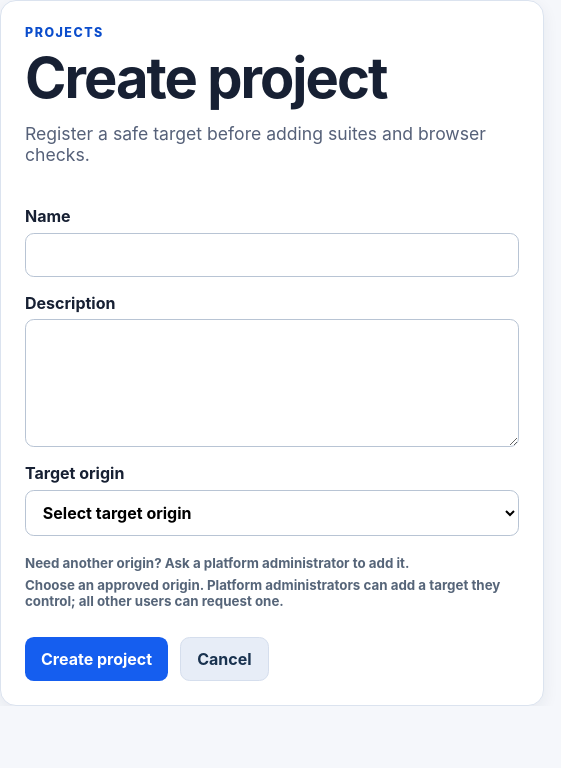
it: project recovery surfaces › gives specific empty-project instructions and focuses the first invalid field
What coordinates should you click on to do the following:
click the button "Create project"
I would click on:
 (97, 659)
Its box is [25,637,168,681].
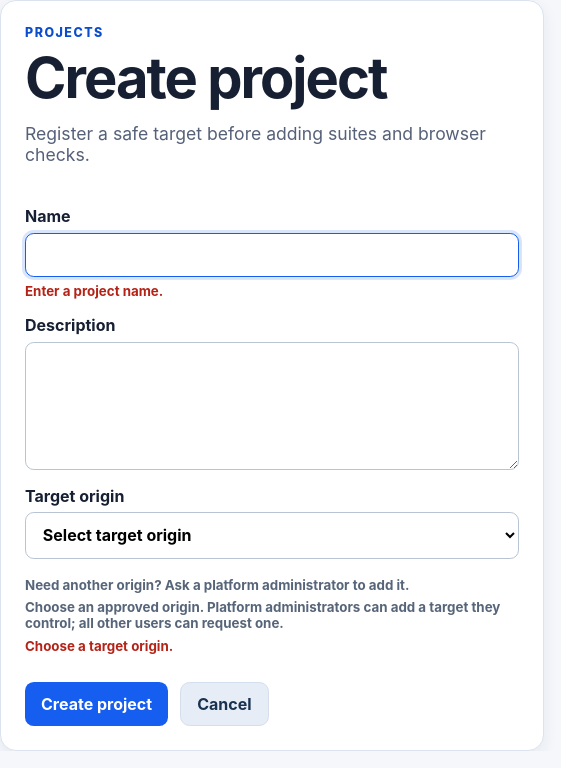
Expected: the text "Enter a project name." is shown, [25,284,163,300]
Expected: the text "Choose a target origin." is shown, [25,638,173,654]
